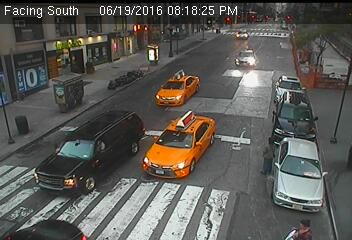neg: (116, 72, 143, 107), (105, 114, 126, 142), (173, 120, 188, 139), (286, 68, 298, 85), (173, 44, 185, 60)
pos: (252, 137, 286, 182), (295, 211, 314, 237)
